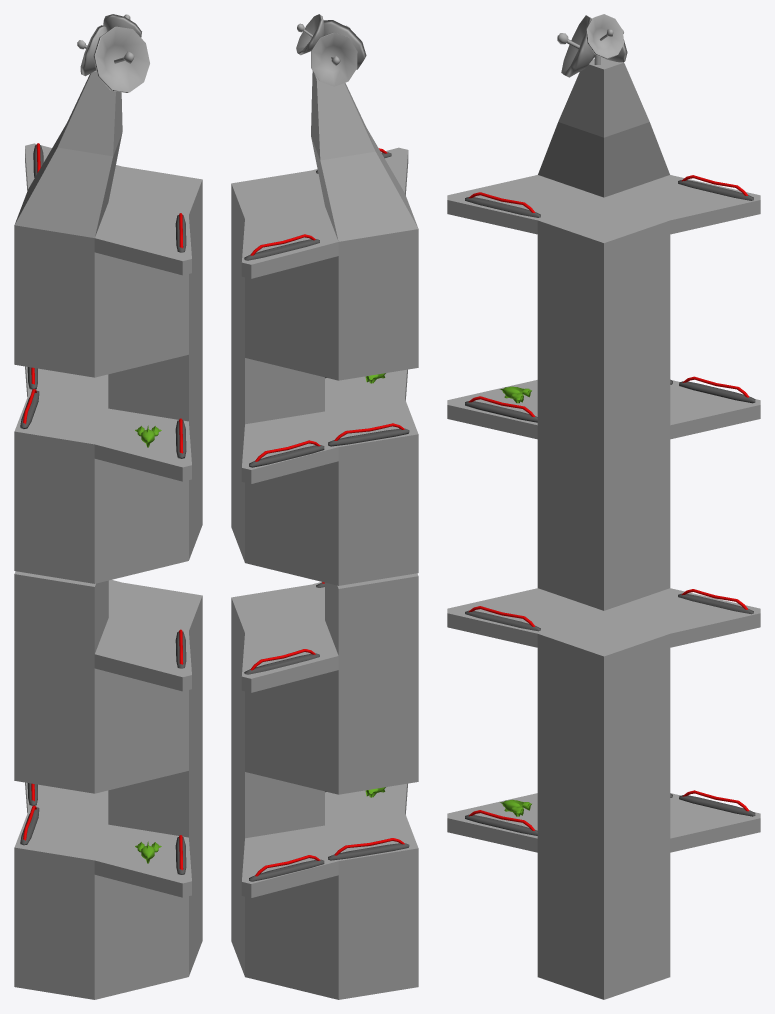
File: TowerIPJamieB.fbx
The picture shows the model from 3 angles, left to right: view 1: azimuth 30°, elevation 25°; view 2: azimuth 150°, elevation 25°; view 3: azimuth 270°, elevation 25°; orthographic projection.
Visible parts, largest first — view 1: pasted__pCylinder10; view 2: pasted__pCylinder10; view 3: pasted__pCylinder10.
Boxes of the visible parts, bbox=[...] form: pasted__pCylinder10: bbox=[14, 14, 202, 999]; pasted__pCylinder10: bbox=[231, 14, 418, 999]; pasted__pCylinder10: bbox=[447, 14, 760, 999].
Size of the model in its own units: 2.82 by 13.61 by 4.1.
